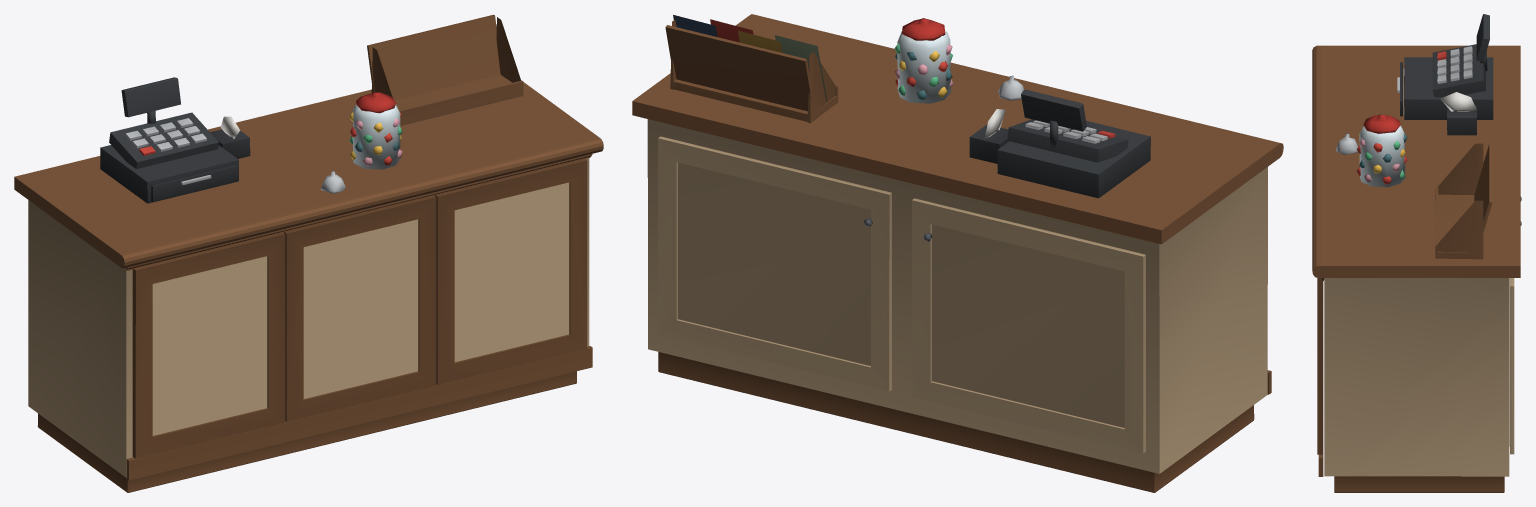
The model's file is shopCounter.far.glb.
The picture shows the model from 3 angles, left to right: view 1: azimuth 30°, elevation 25°; view 2: azimuth 150°, elevation 25°; view 3: azimuth 270°, elevation 25°; orthographic projection. The views are drawn at different scales.
Parts seen in each view (by area): view 1: shopCounter_far; view 2: shopCounter_far; view 3: shopCounter_far.
Boxes of the visible parts, x1,y1,x2,y2 form: shopCounter_far: (14, 14, 603, 492); shopCounter_far: (632, 14, 1283, 492); shopCounter_far: (1312, 14, 1521, 492).
Bounding box in the file's own units: 1.96 × 1.28 × 0.7859.
